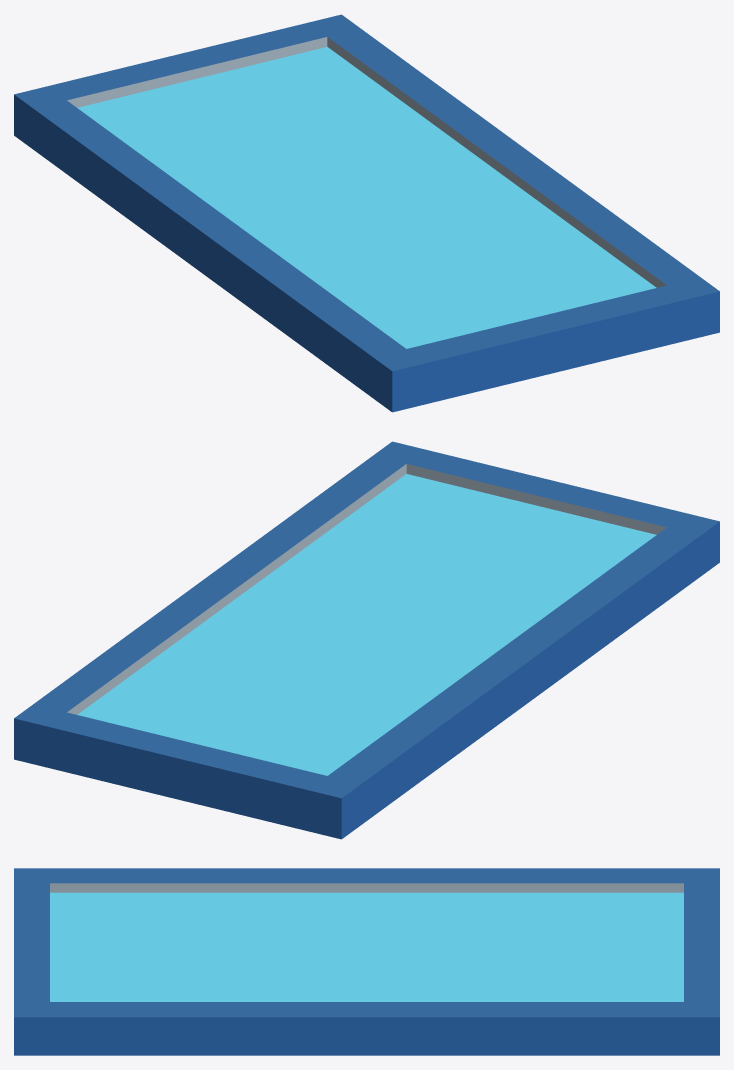
The model's file is Pool_A.fbx.
The picture shows the model from 3 angles, top to bottom: view 1: azimuth 30°, elevation 25°; view 2: azimuth 150°, elevation 25°; view 3: azimuth 270°, elevation 25°; orthographic projection. The views are drawn at different scales.
Visible parts, largest first — view 1: Pool_A; view 2: Pool_A; view 3: Pool_A.
Part boxes in pixels (left/top/right/bottom): Pool_A: left=14, top=14, right=719, bottom=412; Pool_A: left=14, top=441, right=719, bottom=839; Pool_A: left=14, top=868, right=719, bottom=1055.
Size of the model in its own units: 500 by 60 by 1000.
